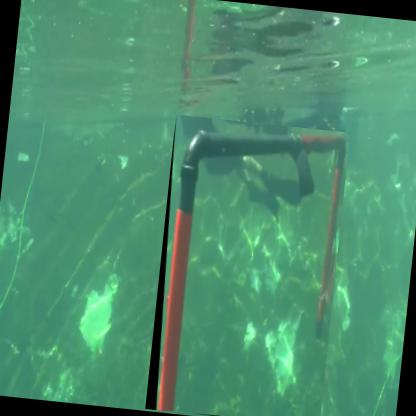gate: (145, 115, 352, 416)
